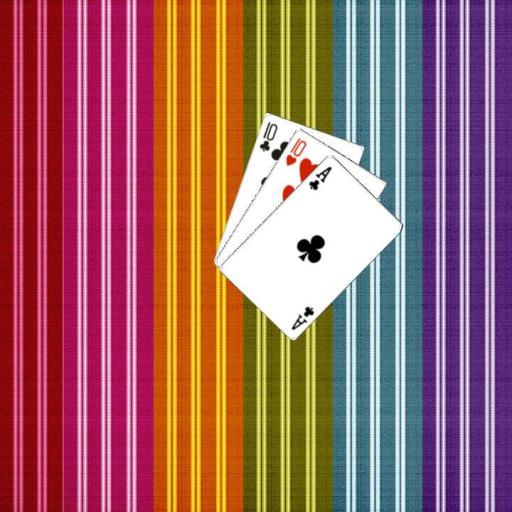10C: (256, 118, 279, 153)
10H: (282, 135, 308, 167)
AC: (288, 303, 316, 331), (306, 163, 333, 191)
